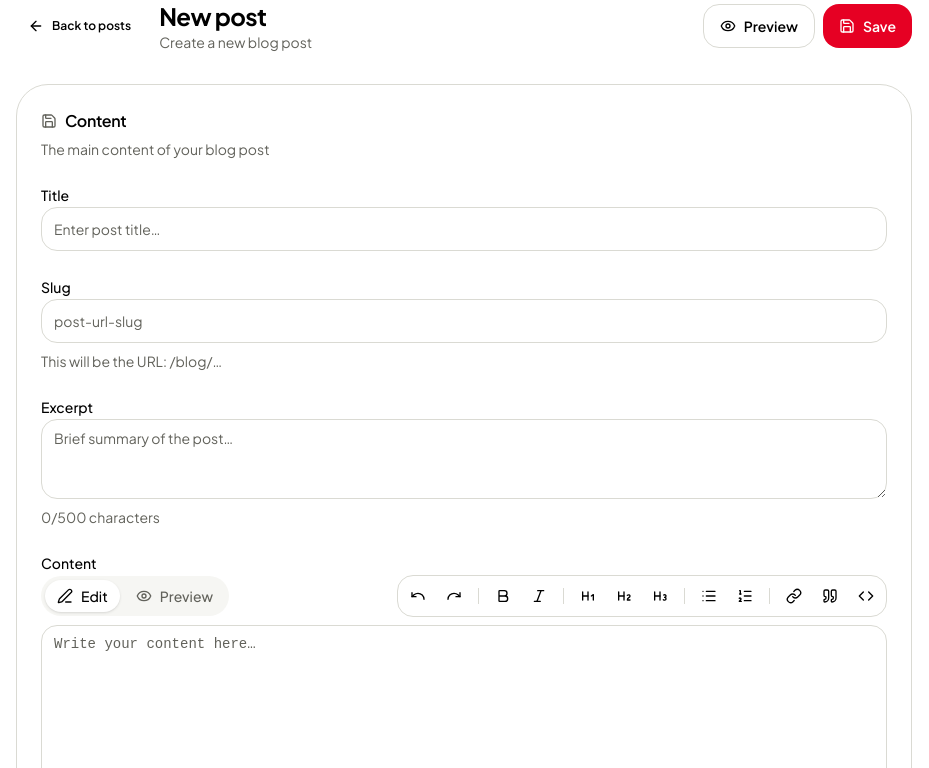
PostEditorPage › validates required fields on submit
What coordinates should you click on to do the following:
click the button "Save"
I would click on:
 (868, 26)
Its box is [823,4,912,48].
(page scrolled)
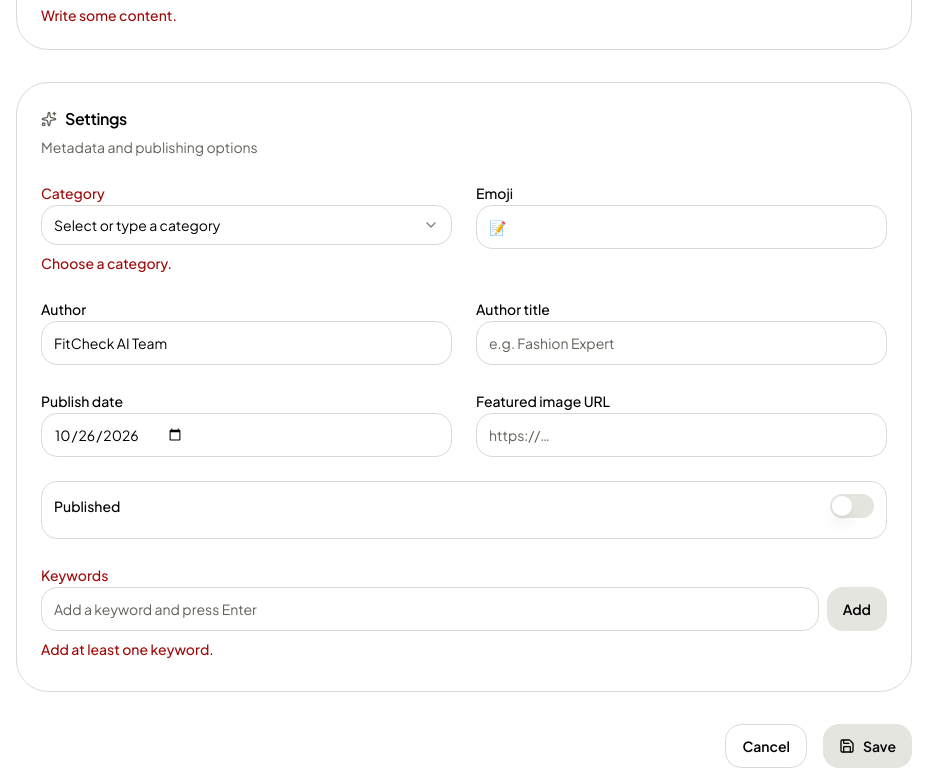
Check: the text "Choose a category." is shown, box [41,254,172,272]
Check: the text "Add at least one keyword." is shown, box [41,640,214,658]
